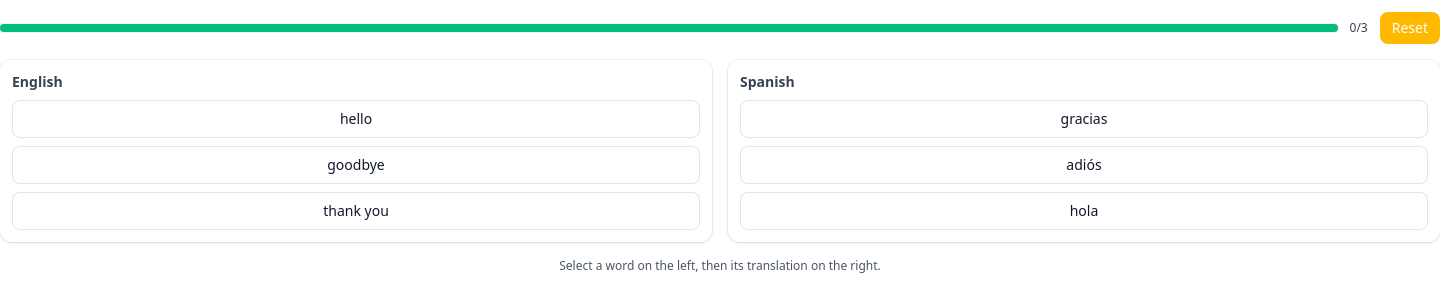
Test case: WordMatcher › shows play again button in win state
This screenshot has width=1452, height=290.
# Match all pairs
Click the button with aria-label "select hello".
click(356, 119)  # box [12,100,700,138]
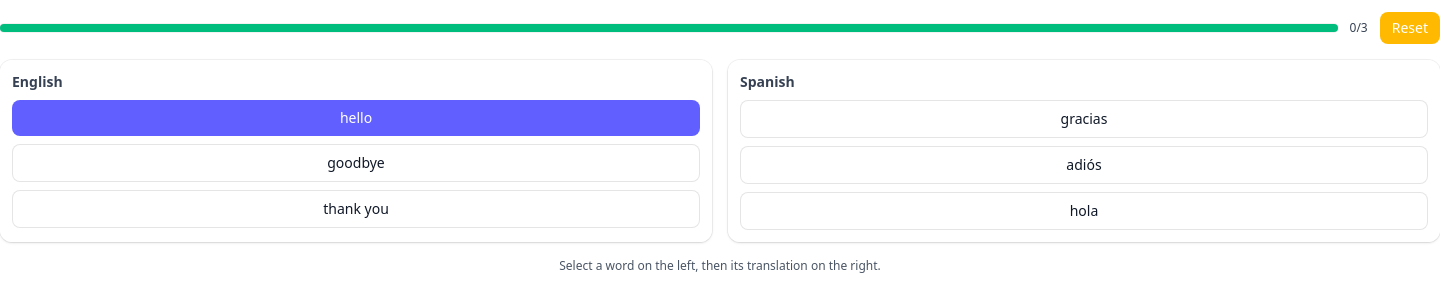
Click the button with aria-label "choose hola".
click(1084, 211)  # box [740,192,1428,230]
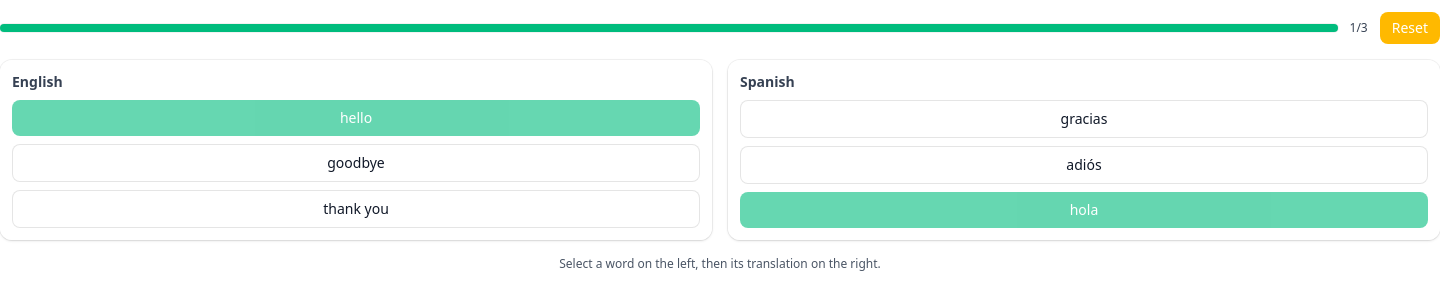
Click the button with aria-label "select goodbye".
click(356, 163)  # box [12,144,700,182]
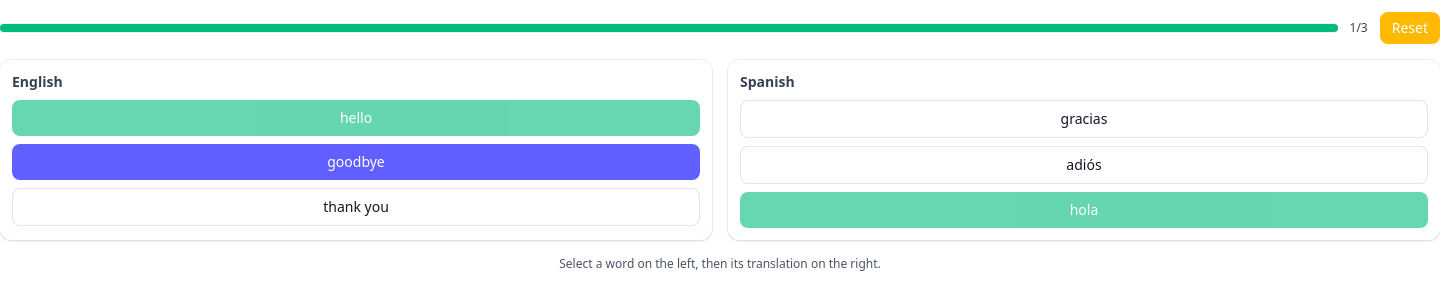
Click the button with aria-label "choose adiós".
click(1084, 165)  # box [740,146,1428,184]
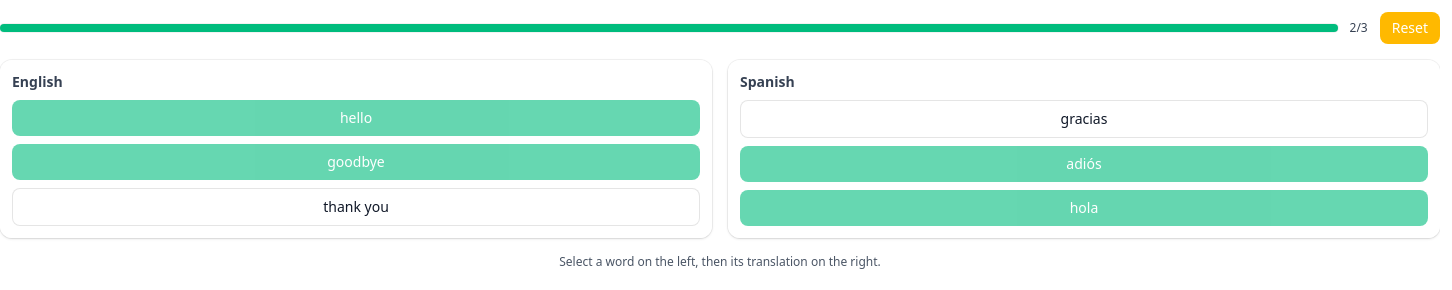
Click the button with aria-label "select thank you".
click(356, 207)  # box [12,188,700,226]
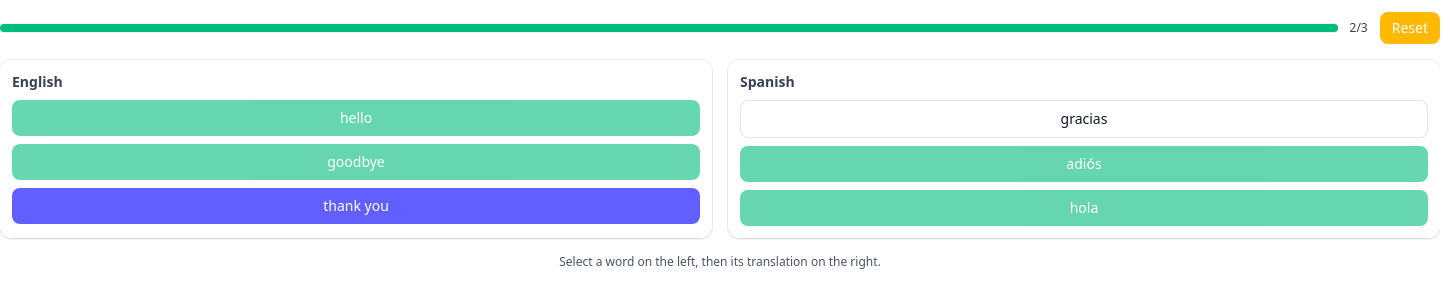
Click the button with aria-label "choose gracias".
click(1084, 119)  # box [740,100,1428,138]
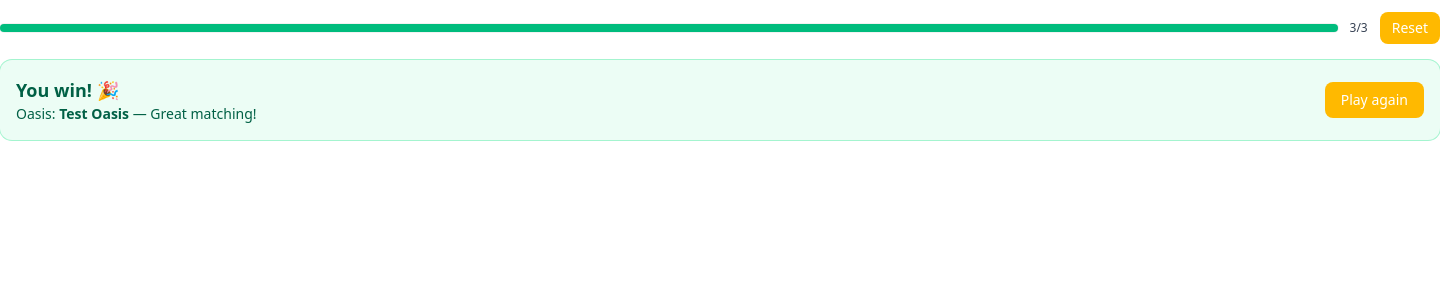
expect the button "Play again" is shown: met, box [1325,82,1424,118]
